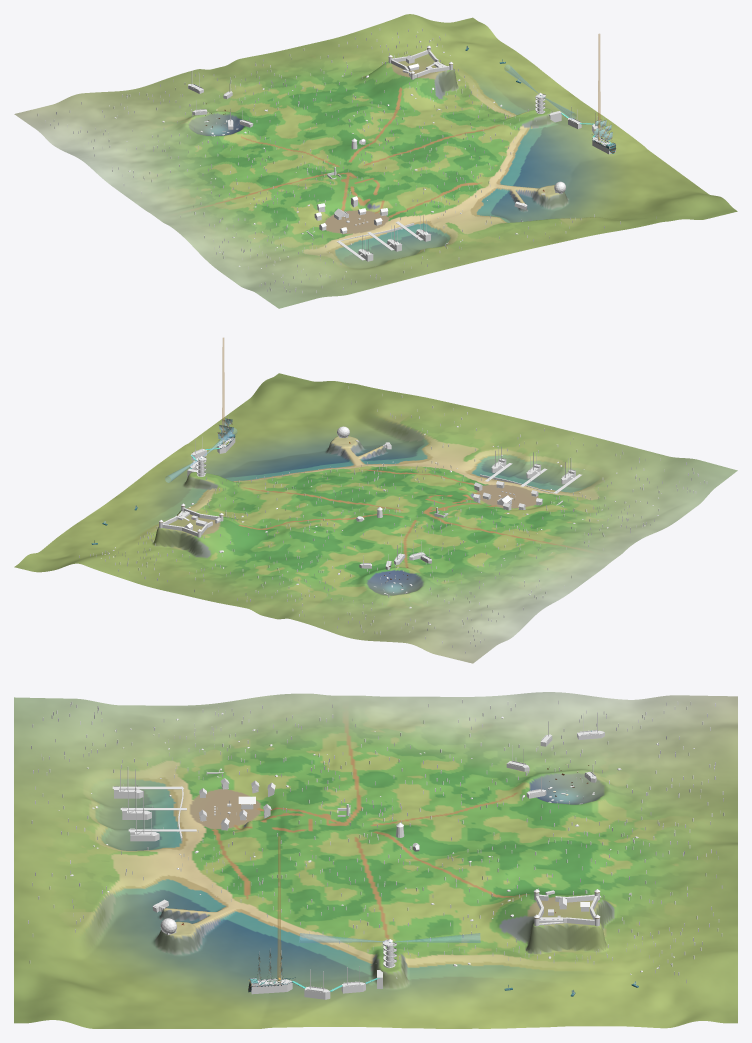
Rendered from world_blacksail.core.glb.
The picture shows the model from 3 angles, top to bottom: view 1: azimuth 30°, elevation 25°; view 2: azimuth 150°, elevation 25°; view 3: azimuth 270°, elevation 25°; orthographic projection. The views are drawn at different scales.
Visible parts, largest first — view 1: Terrain, COL_Props; view 2: Terrain, COL_Props; view 3: Terrain, COL_Props, Lighthouse_Beam, COL_Flagship_Hull.
Part boxes in pixels (x1,y1,x2,y2): Terrain: [14, 14, 737, 308]; COL_Props: [37, 28, 656, 293]; Terrain: [14, 373, 737, 663]; COL_Props: [79, 386, 707, 653]; Terrain: [14, 692, 737, 1028]; COL_Props: [28, 699, 724, 999]; Lighthouse_Beam: [299, 933, 480, 942]; COL_Flagship_Hull: [250, 948, 292, 994].
Size of what is drawn, in the model's own units: 720 by 181 by 720.
